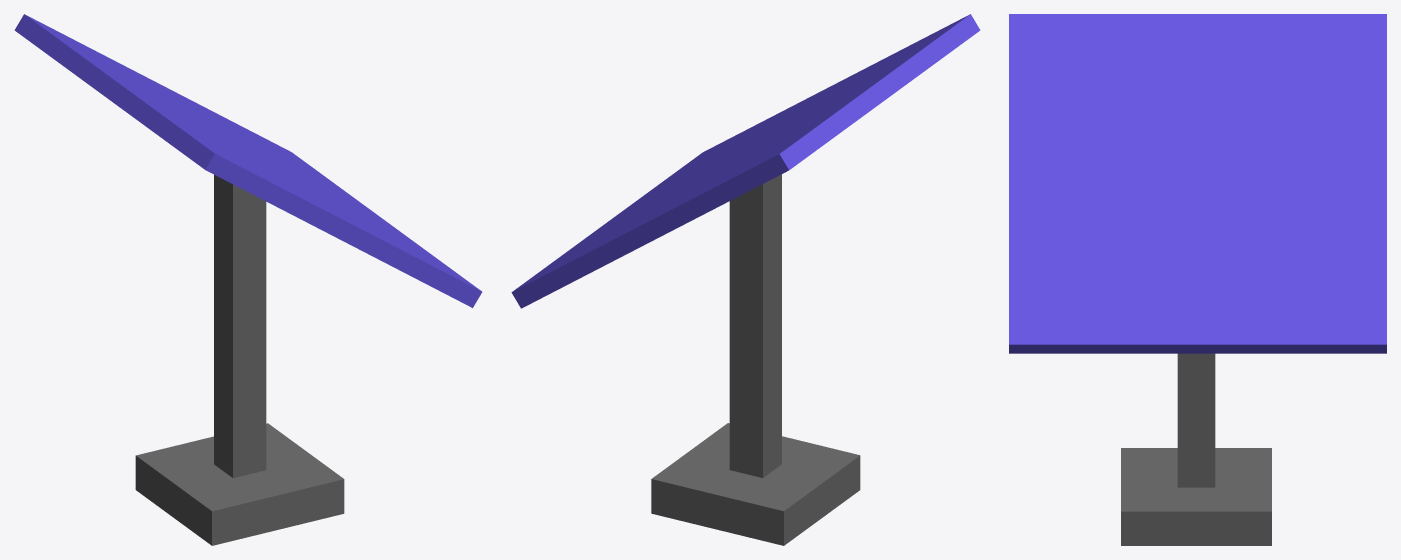
The model's file is heliostat.glb.
3 views of the same model, side by side, from view 1: azimuth 30°, elevation 25°; view 2: azimuth 150°, elevation 25°; view 3: azimuth 270°, elevation 25° (orthographic).
Parts seen in each view (by area): view 1: Cube; view 2: Cube; view 3: Cube.
Boxes of the visible parts, x1=… form: Cube: x1=14, y1=14, x2=482, y2=545; Cube: x1=511, y1=14, x2=980, y2=545; Cube: x1=1009, y1=14, x2=1386, y2=545.
Size of the model in its own units: 1.68 by 2.63 by 2.
